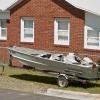Boat: (3, 33, 100, 90)
